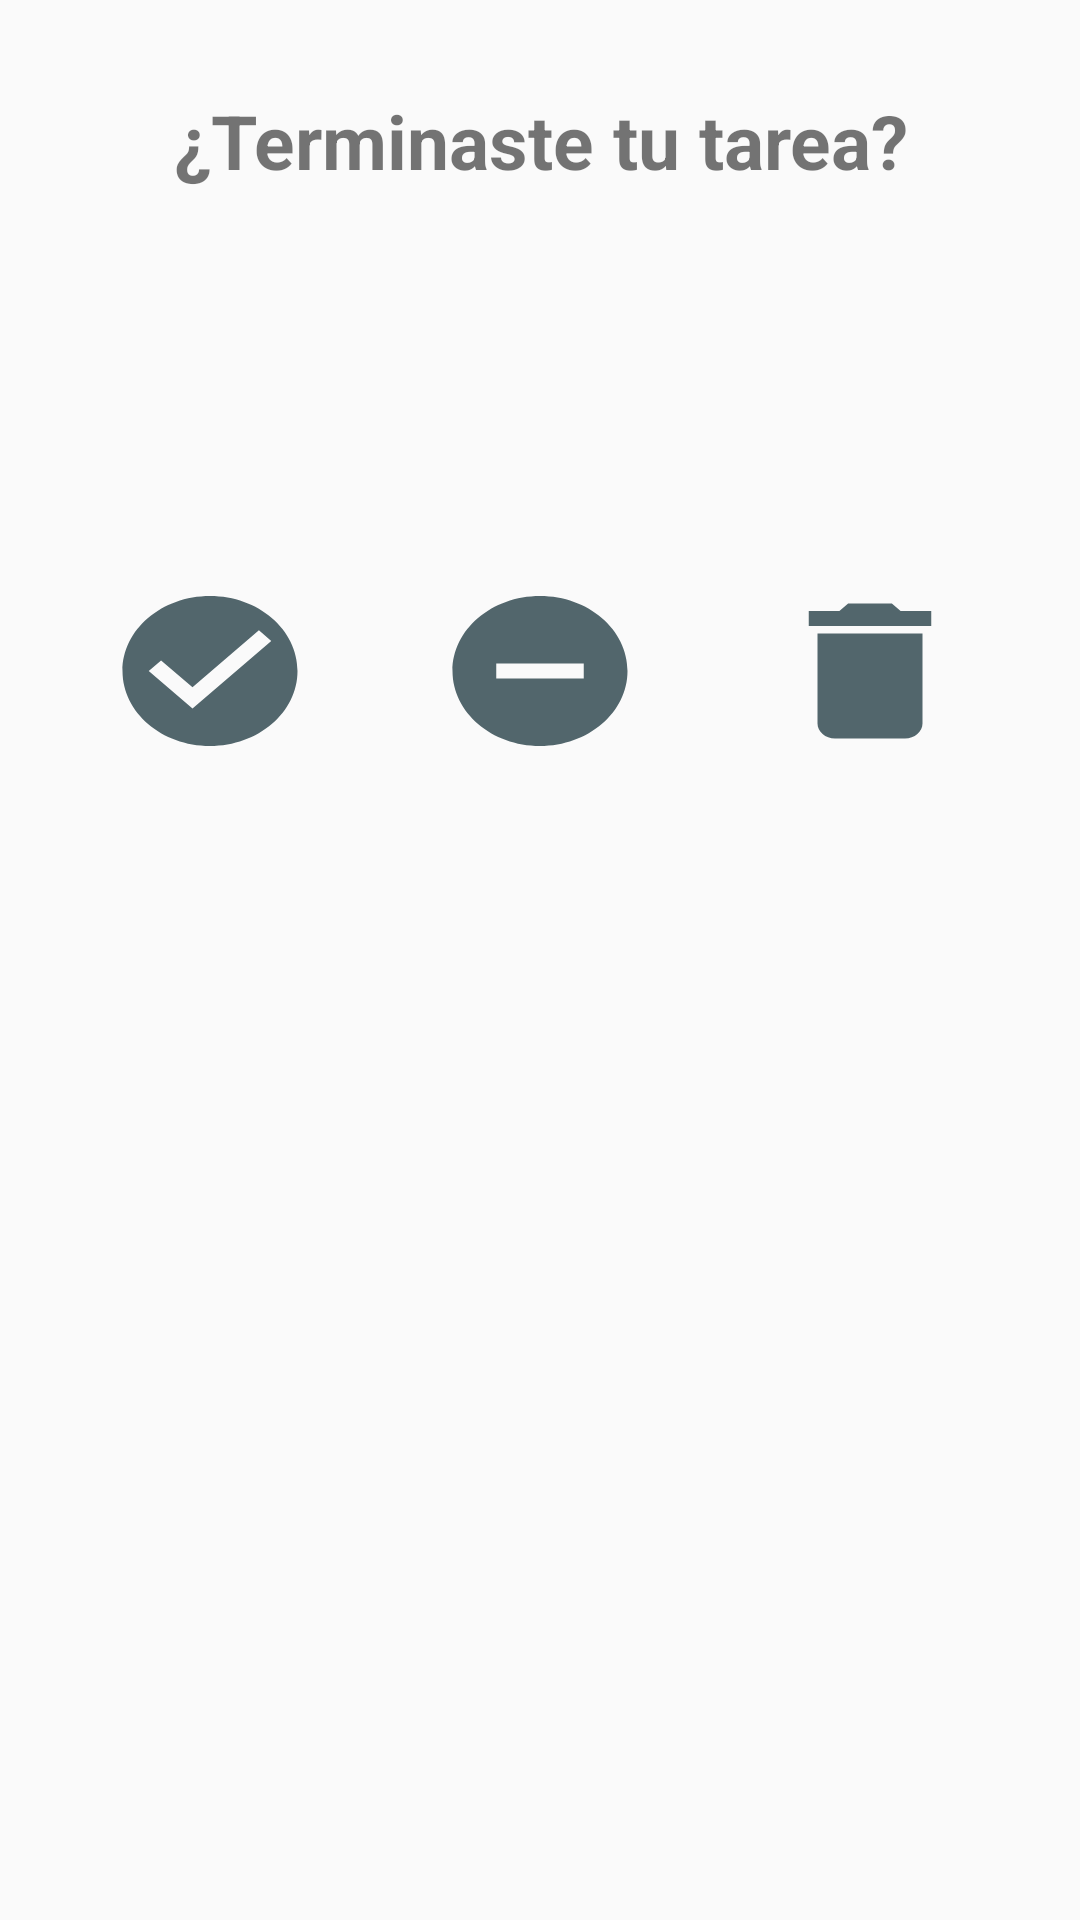

Icons on this 1080 × 1920 Android screen, each with the point to tap as point (x, y):
check: point (210, 671)
